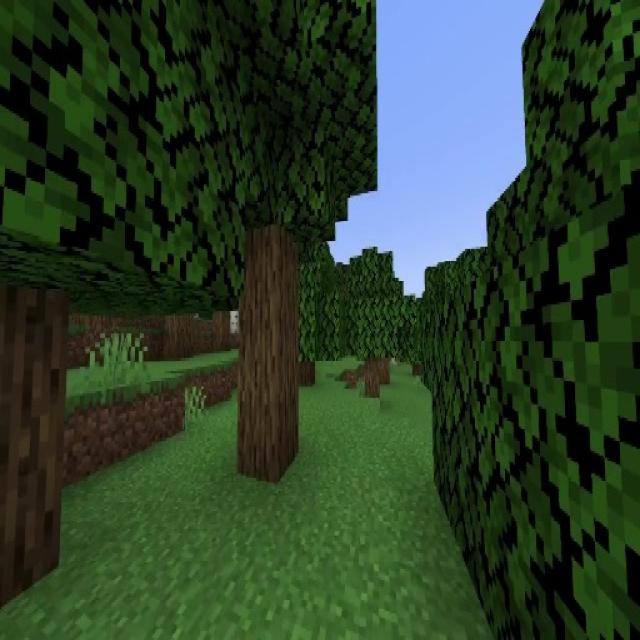oak: (159, 0, 371, 481), (334, 251, 407, 397), (274, 257, 343, 383)
oak_log: (237, 226, 300, 480), (164, 314, 192, 358), (214, 307, 231, 347), (366, 359, 380, 397)
